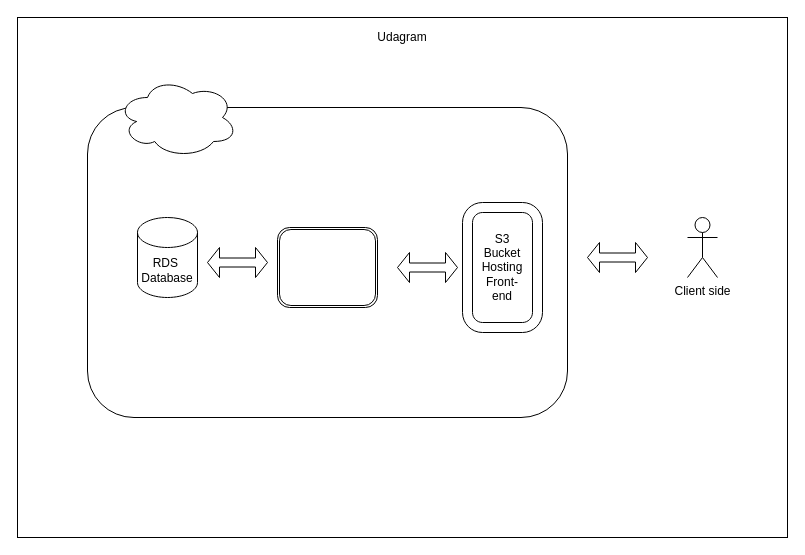
This 805x555 diagram has some shape labels left out. The shapes that lost their labels are listed below. From the top down, each one's box as (x1, y1, x2, y2) in pixels, then its label:
(116, 76, 238, 158): AWS Cloud
(276, 226, 378, 308): AWS ElastivBeanstalk API
